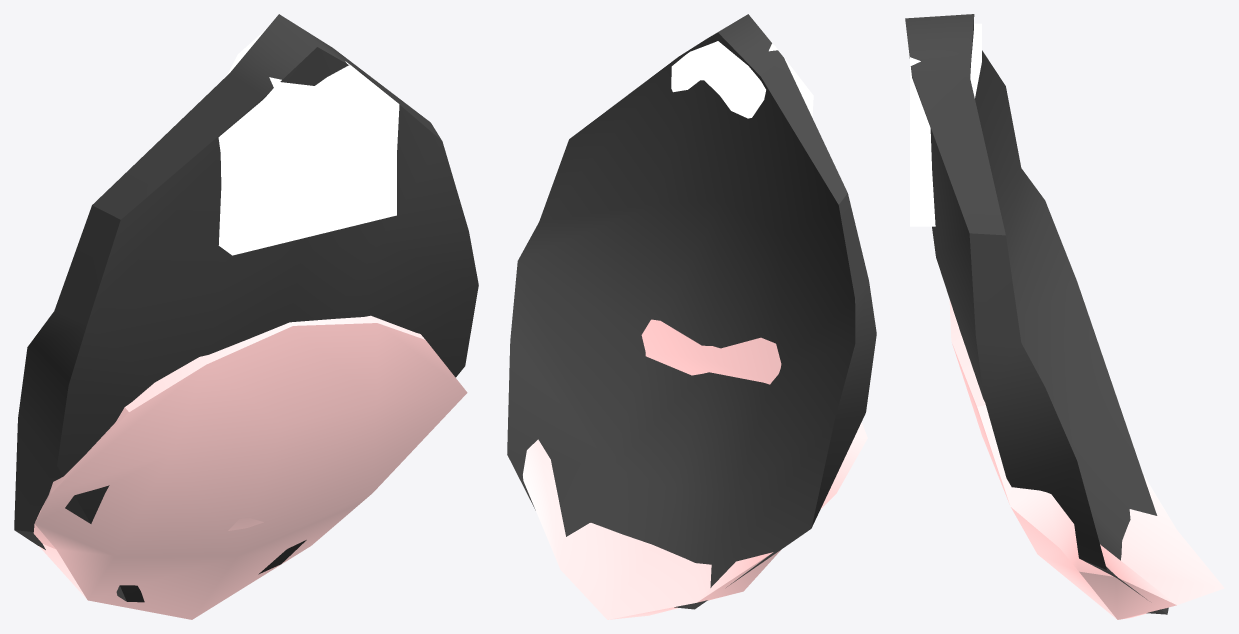
File: CUSTOM_O_mouth.gltf
3 renders of one model, left to right at view 1: azimuth 30°, elevation 25°; view 2: azimuth 150°, elevation 25°; view 3: azimuth 270°, elevation 25°, orthographic. The views are drawn at different scales.
Visible parts, largest first — view 1: CUSTOM_O_mouth; view 2: CUSTOM_O_mouth; view 3: CUSTOM_O_mouth.
Part boxes in pixels (left/top/right/bottom): CUSTOM_O_mouth: left=14, top=14, right=478, bottom=619; CUSTOM_O_mouth: left=507, top=14, right=876, bottom=619; CUSTOM_O_mouth: left=905, top=14, right=1224, bottom=619.
Bounding box in the file's own units: 0.0054 × 0.00814 × 0.00391.
